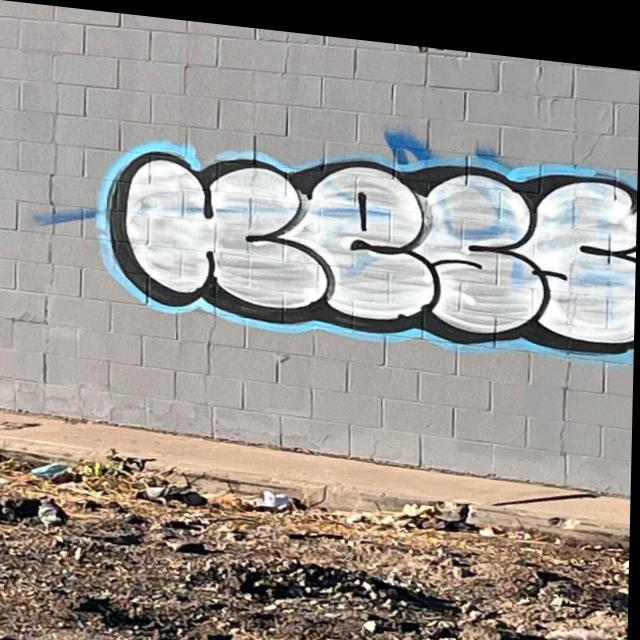-: (59, 63, 638, 384)
